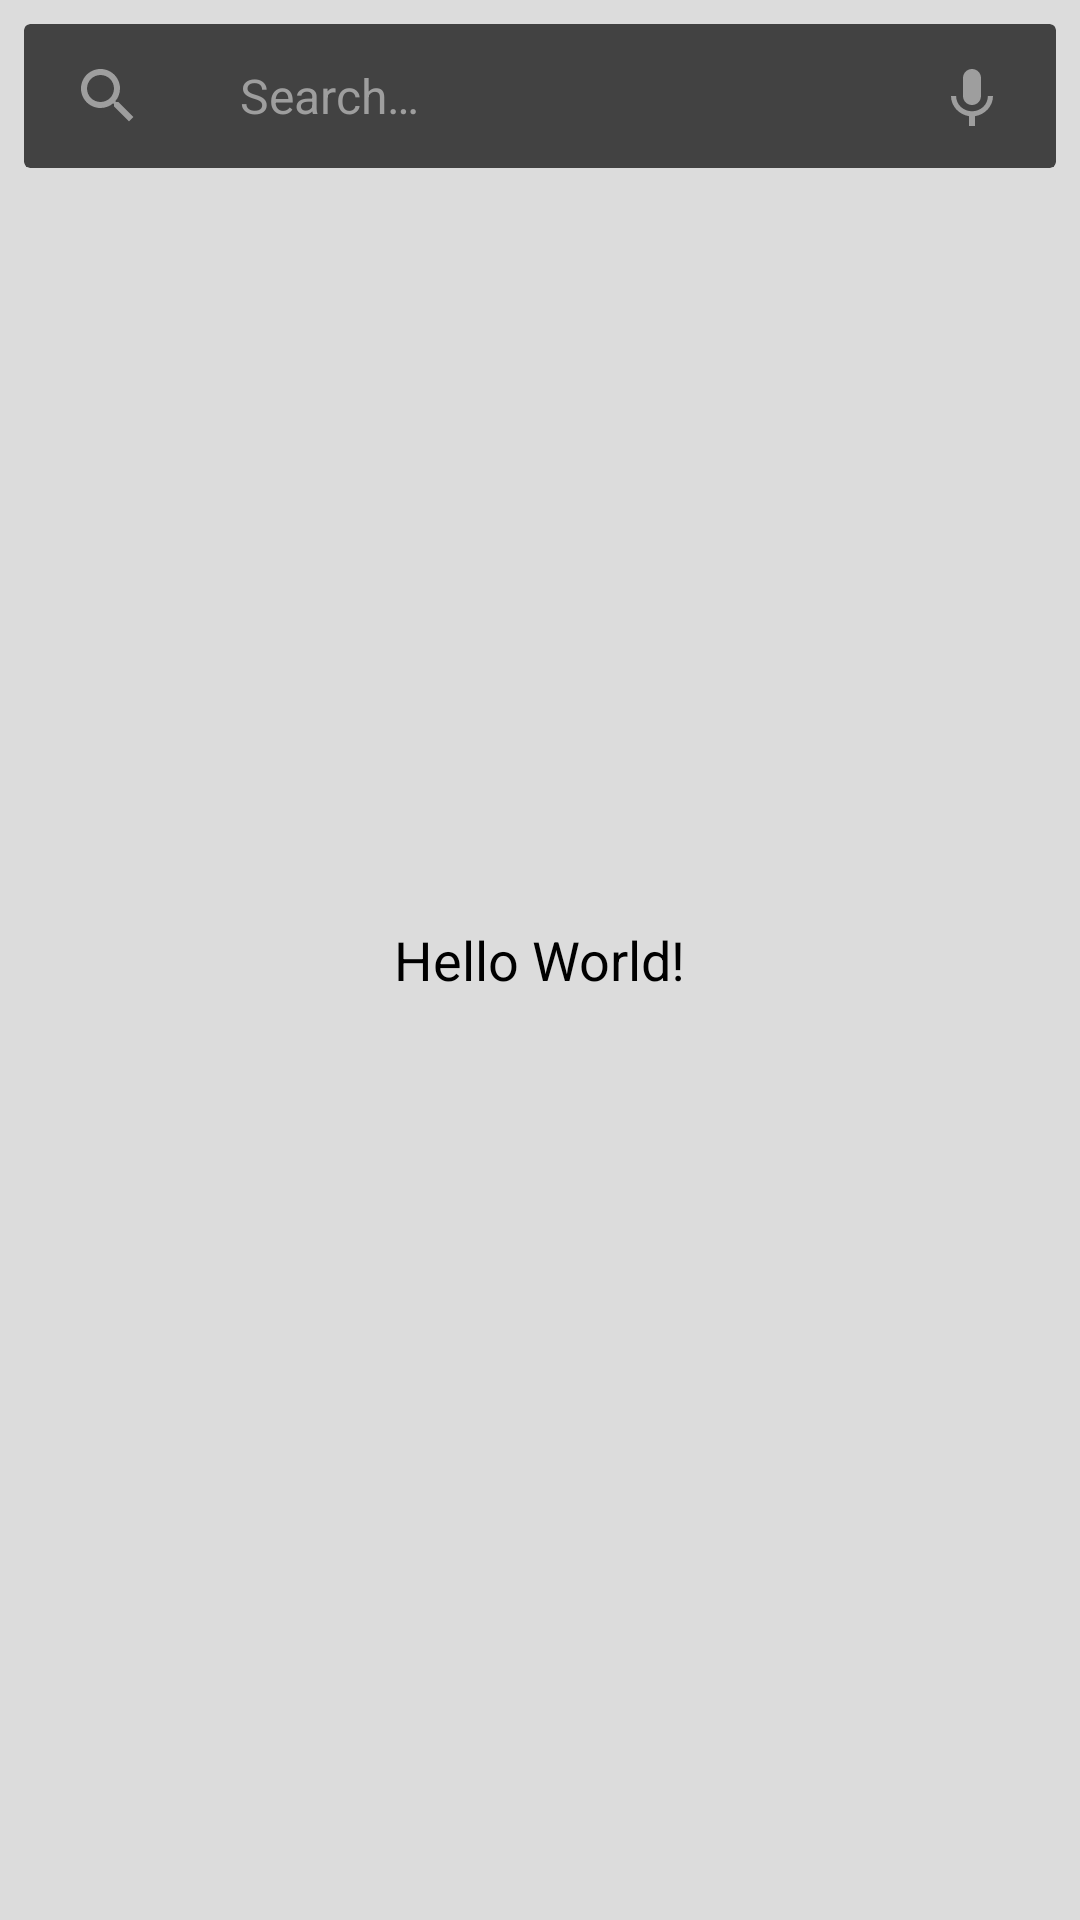

Icons on this 1080x1920 Android screen, each with its box as (x1, y1, x2, y2):
voice: (951, 69, 993, 126)
